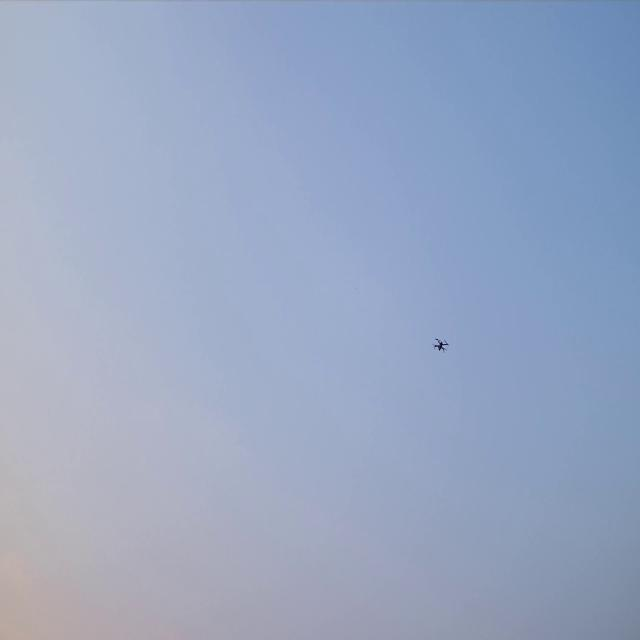UAV: (434, 339, 448, 350)
